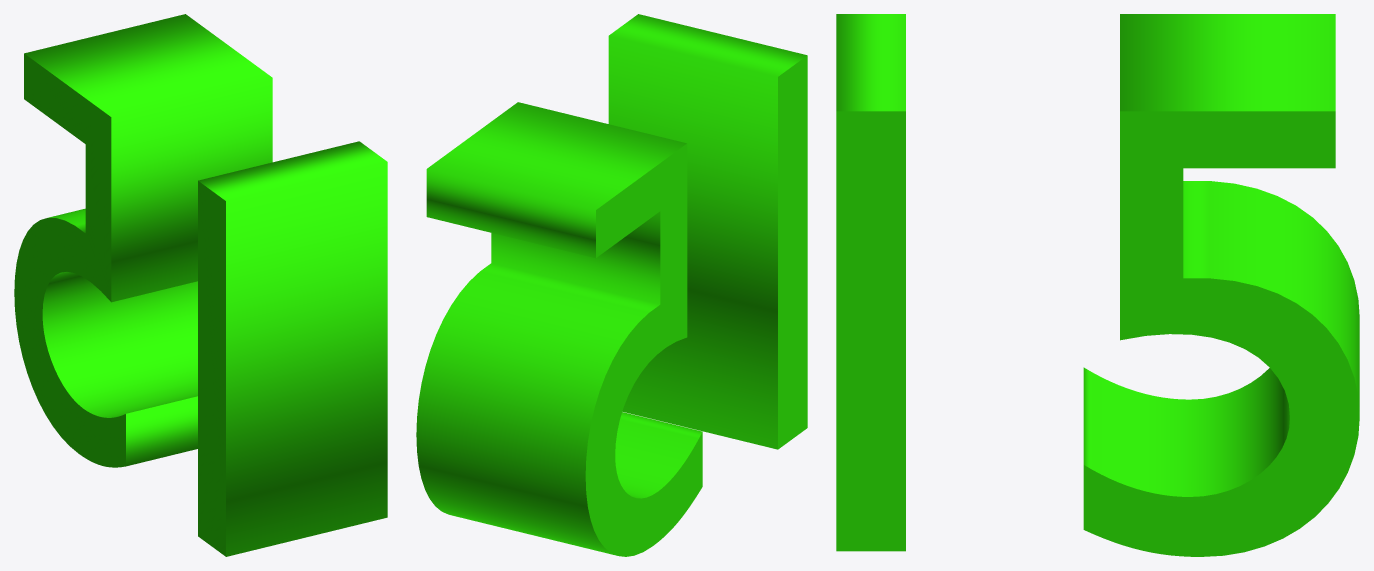
Rendered from number15.obj.
3 views of the same model, side by side, from view 1: azimuth 30°, elevation 25°; view 2: azimuth 150°, elevation 25°; view 3: azimuth 270°, elevation 25° (orthographic). The views are drawn at different scales.
Visible parts, largest first — view 1: Text.019_Text.026; view 2: Text.019_Text.026; view 3: Text.019_Text.026.
Part boxes in pixels (bbox=[...]): Text.019_Text.026: bbox=[14, 14, 387, 556]; Text.019_Text.026: bbox=[416, 14, 807, 556]; Text.019_Text.026: bbox=[836, 14, 1359, 556].
Size of the model in its own units: 2.23 by 4.76 by 5.08.
